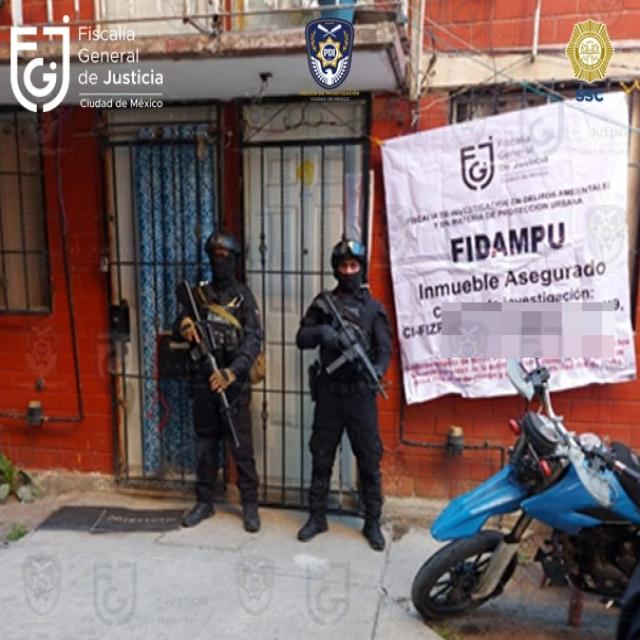stamps: (384, 92, 631, 402)
